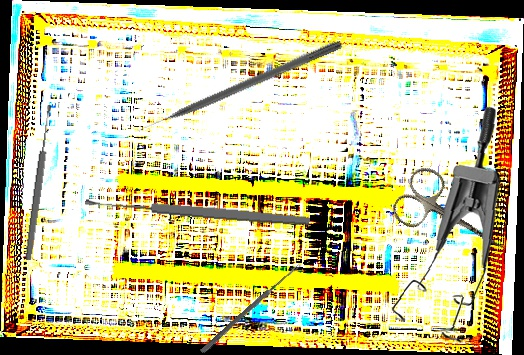Iris Scissors: (387, 161, 519, 276)
Pusher: (135, 37, 344, 135)
Speculum: (382, 106, 509, 345)
Surgical Spoon: (199, 261, 303, 355), (84, 195, 311, 228), (23, 104, 55, 261)
